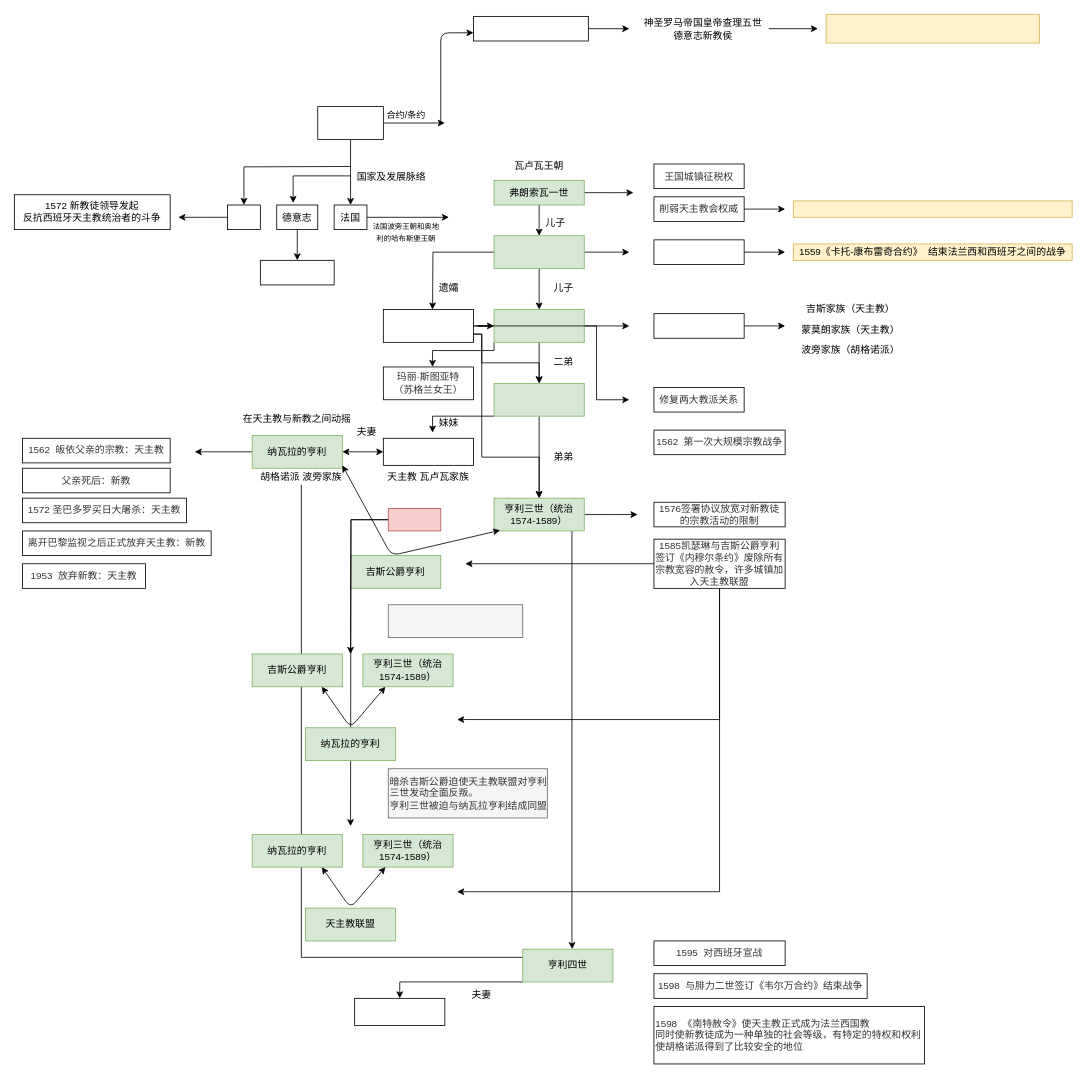
This 1087x1078 diagram has some shape labels left out. The shapes that lost their labels are listed below. From the top down, each one's centre as x and y in pixels, then its label:
At point (530, 28): "1555《奥格斯堡和约》".
At point (932, 28): "结束了德意志新教君主和天主教君主的纷争 规定自此以后每个国家的宗教就是其君主的宗教".
At point (350, 122): "宗教战争".
At point (243, 217): "荷兰".
At point (932, 208): "1516《博洛尼亚协定》 确立了王权对教会职位任免权的控制".
At point (538, 252): "亨利二世（统治1547-1559）".
At point (698, 251): "宗教压迫政策".
At point (297, 272): "1618 宗教战争".
At point (428, 325): "凯瑟琳·德·美第奇（摄政王）".
At point (538, 325): "弗朗索瓦二世（统治1559-1560）".
At point (698, 325): "三大家族".
At point (538, 399): "查理九世（统治1560-1574）".
At point (428, 451): "玛格丽特".
At point (414, 519): "三亨利之战".
At point (455, 621): "三亨利之战转变 ——纳瓦拉的亨利孤军奋战".
At point (399, 1011): "玛丽·德·美第奇（凯瑟琳远房表亲）".
